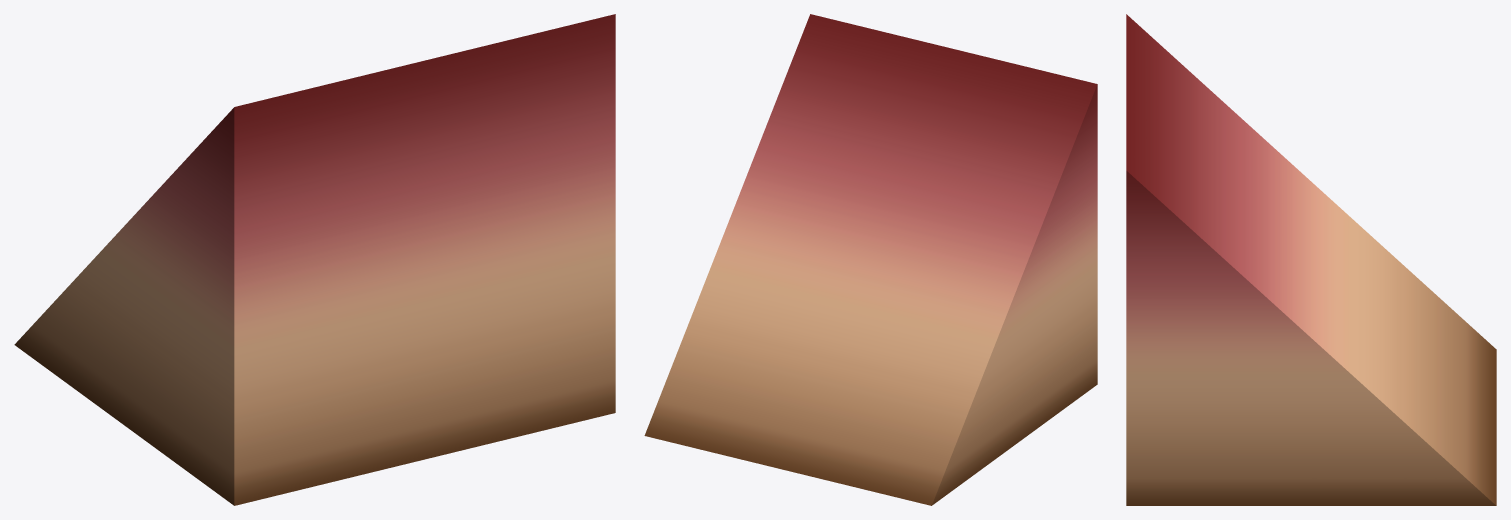
Rendered from ramp2.001.fbx.
3 views of the same model, side by side, from view 1: azimuth 30°, elevation 25°; view 2: azimuth 150°, elevation 25°; view 3: azimuth 270°, elevation 25° (orthographic). The views are drawn at different scales.
Parts seen in each view (by area): view 1: ramp2.001; view 2: ramp2.001; view 3: ramp2.001.
Part boxes in pixels (x1,y1,x2,y2): ramp2.001: [14, 14, 615, 505]; ramp2.001: [644, 14, 1097, 505]; ramp2.001: [1126, 14, 1496, 505].
Size of the model in its own units: 100 by 100 by 100.
